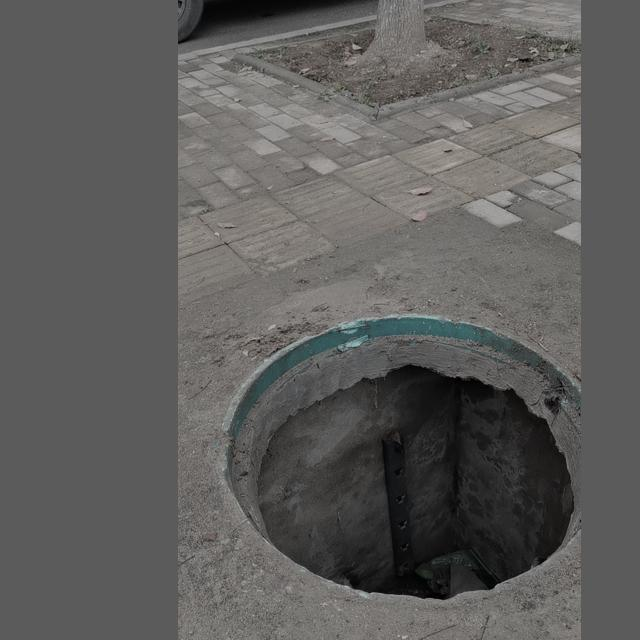lose: (219, 315, 581, 606)
